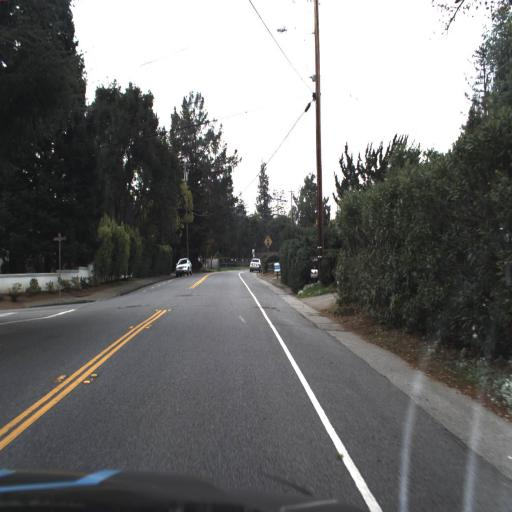car: (175, 252, 194, 274), (248, 258, 262, 274)
